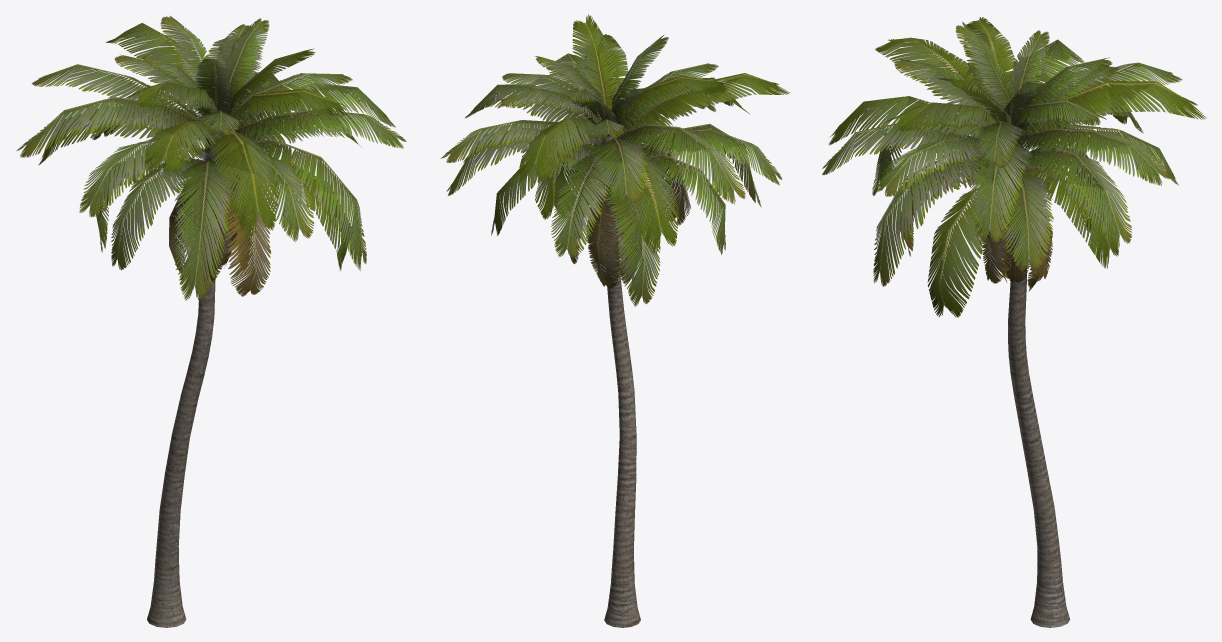
The model's file is palm.glb.
The picture shows the model from 3 angles, left to right: view 1: azimuth 30°, elevation 25°; view 2: azimuth 150°, elevation 25°; view 3: azimuth 270°, elevation 25°; orthographic projection. The views are drawn at different scales.
Parts seen in each view (by area): view 1: hd_palmTreeLeaf_a_Albedo.png__, hd_palmTreeLeaf_b_Albedo.png__, hd_palmTreeBark_a_Albedo.png__, hd_palmTreeLeafDry_a_Albedo.png__; view 2: hd_palmTreeLeaf_a_Albedo.png__, hd_palmTreeLeaf_b_Albedo.png__, hd_palmTreeBark_a_Albedo.png__, hd_palmTreeLeafDry_a_Albedo.png__; view 3: hd_palmTreeLeaf_a_Albedo.png__, hd_palmTreeLeaf_b_Albedo.png__, hd_palmTreeBark_a_Albedo.png__, hd_palmTreeLeafDry_a_Albedo.png__.
Boxes of the visible parts, x1,y1,x2,y2 form: hd_palmTreeLeaf_a_Albedo.png__: (16,16,406,300); hd_palmTreeLeaf_b_Albedo.png__: (38,23,351,270); hd_palmTreeBark_a_Albedo.png__: (147,130,225,627); hd_palmTreeLeafDry_a_Albedo.png__: (169,155,271,296); hd_palmTreeLeaf_a_Albedo.png__: (440,34,782,306); hd_palmTreeLeaf_b_Albedo.png__: (491,14,789,254); hd_palmTreeBark_a_Albedo.png__: (600,135,640,627); hd_palmTreeLeafDry_a_Albedo.png__: (570,151,690,287); hd_palmTreeLeaf_a_Albedo.png__: (822,22,1182,286); hd_palmTreeLeaf_b_Albedo.png__: (828,17,1206,317); hd_palmTreeBark_a_Albedo.png__: (1004,137,1069,627); hd_palmTreeLeafDry_a_Albedo.png__: (900,160,1052,291).
Bounding box in the file's own units: 5.97 × 10.01 × 5.89.
4 materials, 4 textured.
